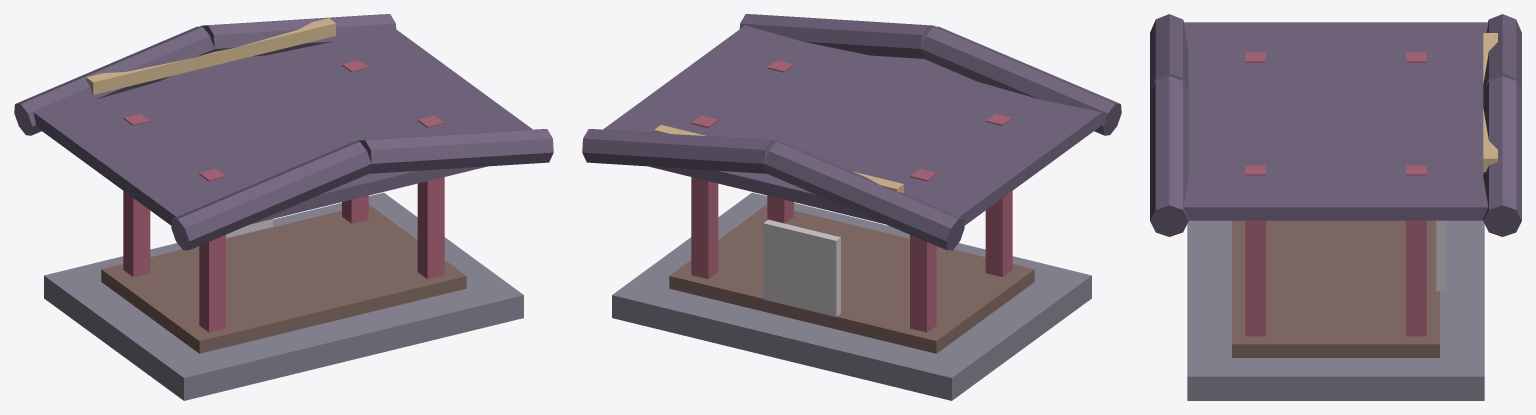
The model's file is kage_dojo_shrine_module.glb.
3 renders of one model, left to right at view 1: azimuth 30°, elevation 25°; view 2: azimuth 150°, elevation 25°; view 3: azimuth 270°, elevation 25°, orthographic. The views are drawn at different scales.
Parts seen in each view (by area): view 1: kage_dojo_shrine_module_10, kage_dojo_shrine_module_01, kage_dojo_shrine_module_00, kage_dojo_shrine_module_07, kage_dojo_shrine_module_09, kage_dojo_shrine_module_06, kage_dojo_shrine_module_11, kage_dojo_shrine_module_08, kage_dojo_shrine_module_05, kage_dojo_shrine_module_03, kage_dojo_shrine_module_02, kage_dojo_shrine_module_04; view 2: kage_dojo_shrine_module_10, kage_dojo_shrine_module_00, kage_dojo_shrine_module_01, kage_dojo_shrine_module_06, kage_dojo_shrine_module_08, kage_dojo_shrine_module_07, kage_dojo_shrine_module_12, kage_dojo_shrine_module_09, kage_dojo_shrine_module_04, kage_dojo_shrine_module_02, kage_dojo_shrine_module_03, kage_dojo_shrine_module_05 (+1 smaller); view 3: kage_dojo_shrine_module_10, kage_dojo_shrine_module_00, kage_dojo_shrine_module_01, kage_dojo_shrine_module_09, kage_dojo_shrine_module_08, kage_dojo_shrine_module_04, kage_dojo_shrine_module_05, kage_dojo_shrine_module_07, kage_dojo_shrine_module_06, kage_dojo_shrine_module_11, kage_dojo_shrine_module_12.
Part boxes in pixels (<box>): kage_dojo_shrine_module_10: <box>33,25,532,225</box>; kage_dojo_shrine_module_01: <box>101,204,466,353</box>; kage_dojo_shrine_module_00: <box>44,192,523,400</box>; kage_dojo_shrine_module_07: <box>171,141,371,250</box>; kage_dojo_shrine_module_09: <box>357,129,553,173</box>; kage_dojo_shrine_module_06: <box>14,26,214,135</box>; kage_dojo_shrine_module_11: <box>86,18,335,94</box>; kage_dojo_shrine_module_08: <box>200,14,396,56</box>; kage_dojo_shrine_module_05: <box>417,115,444,279</box>; kage_dojo_shrine_module_03: <box>199,169,225,332</box>; kage_dojo_shrine_module_02: <box>123,113,150,277</box>; kage_dojo_shrine_module_04: <box>342,60,368,223</box>; kage_dojo_shrine_module_10: <box>603,25,1102,225</box>; kage_dojo_shrine_module_00: <box>612,192,1091,400</box>; kage_dojo_shrine_module_01: <box>669,204,1034,353</box>; kage_dojo_shrine_module_06: <box>764,141,964,250</box>; kage_dojo_shrine_module_08: <box>582,129,778,173</box>; kage_dojo_shrine_module_07: <box>921,26,1121,135</box>; kage_dojo_shrine_module_12: <box>763,219,840,316</box>; kage_dojo_shrine_module_09: <box>739,14,935,58</box>; kage_dojo_shrine_module_04: <box>691,115,718,279</box>; kage_dojo_shrine_module_02: <box>910,169,936,332</box>; kage_dojo_shrine_module_03: <box>985,113,1012,277</box>; kage_dojo_shrine_module_05: <box>767,60,793,223</box>; kage_dojo_shrine_module_10: <box>1183,22,1488,220</box>; kage_dojo_shrine_module_00: <box>1187,220,1484,400</box>; kage_dojo_shrine_module_01: <box>1232,220,1439,357</box>; kage_dojo_shrine_module_09: <box>1150,76,1188,236</box>; kage_dojo_shrine_module_08: <box>1483,76,1521,236</box>; kage_dojo_shrine_module_04: <box>1406,165,1426,336</box>; kage_dojo_shrine_module_05: <box>1245,165,1265,336</box>; kage_dojo_shrine_module_07: <box>1150,14,1188,91</box>; kage_dojo_shrine_module_06: <box>1483,14,1521,91</box>; kage_dojo_shrine_module_11: <box>1483,33,1497,172</box>; kage_dojo_shrine_module_12: <box>1436,220,1446,291</box>.
Bounding box in the file's own units: 15.22 × 8.84 × 12.5.
